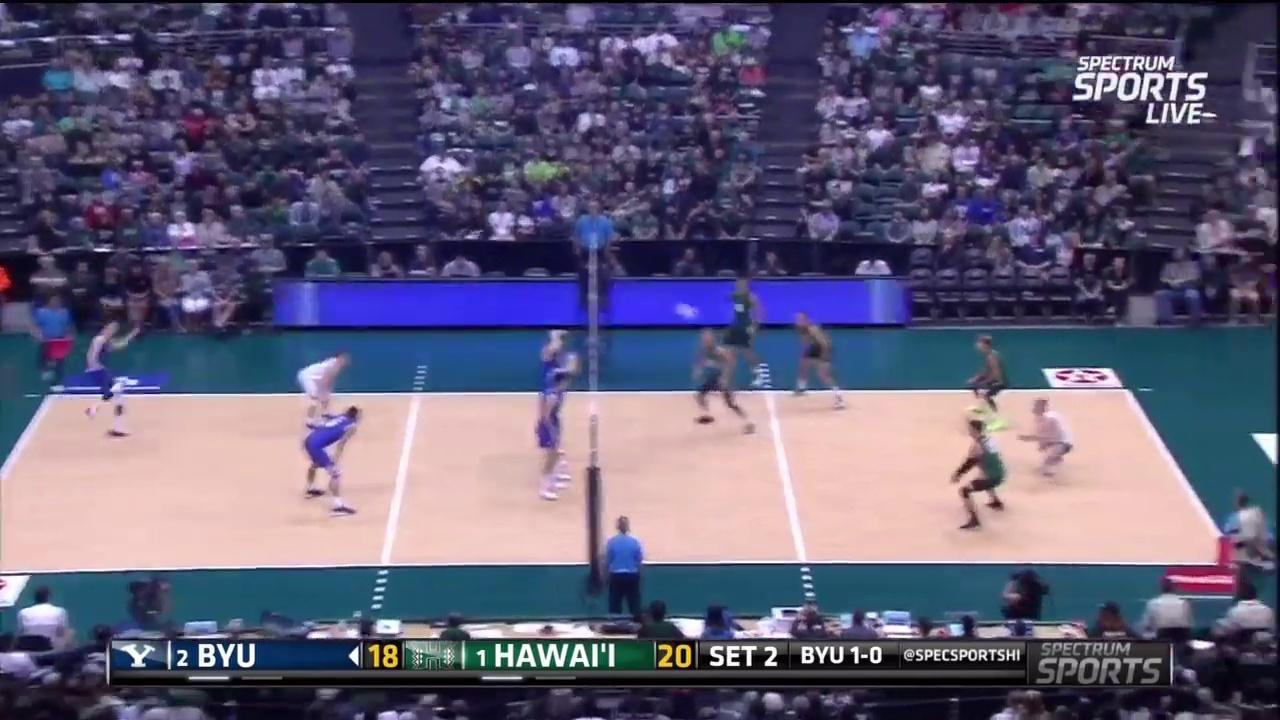player: (75, 315, 146, 442), (685, 325, 761, 443), (304, 404, 361, 518), (951, 420, 1008, 530), (714, 278, 764, 388), (793, 312, 845, 399), (532, 372, 567, 499), (543, 329, 573, 464), (296, 351, 351, 422), (1029, 400, 1075, 482), (546, 353, 575, 480), (969, 336, 1007, 428)
refree: (1200, 480, 1280, 576), (567, 197, 621, 313), (592, 514, 650, 616), (25, 289, 78, 394)
